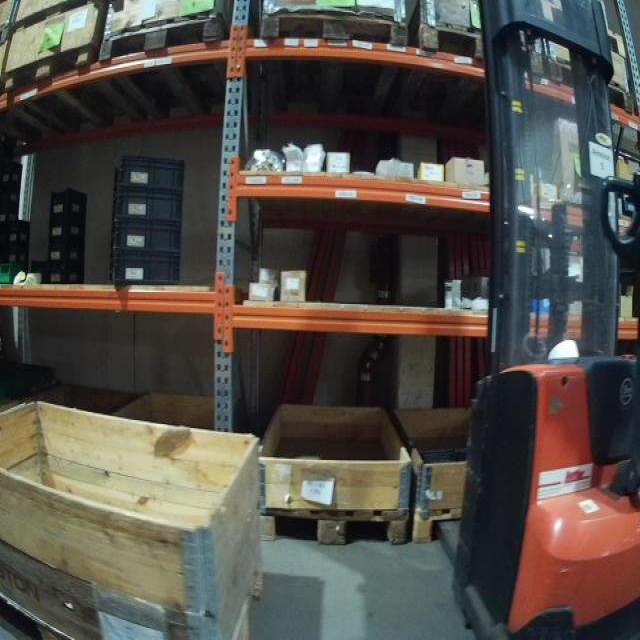pallet: (262, 10, 405, 118), (99, 12, 230, 122), (410, 27, 482, 131), (257, 508, 410, 545), (540, 0, 626, 59)
pallet_truck: (448, 3, 638, 640)
small_load_carrier: (105, 252, 184, 295), (107, 155, 188, 189), (109, 220, 186, 252), (109, 189, 187, 220), (44, 237, 85, 264), (47, 190, 87, 217), (44, 264, 85, 289), (49, 217, 86, 242), (4, 251, 34, 273), (3, 221, 28, 247)
